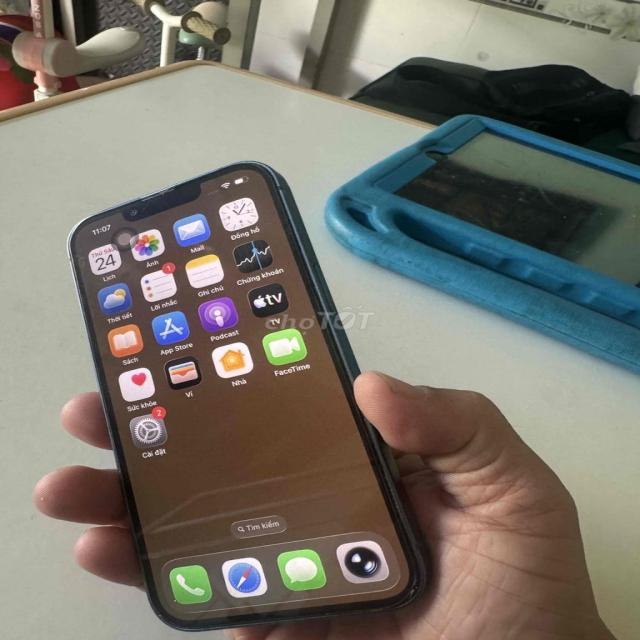gen_12_13: (64, 160, 427, 632)
